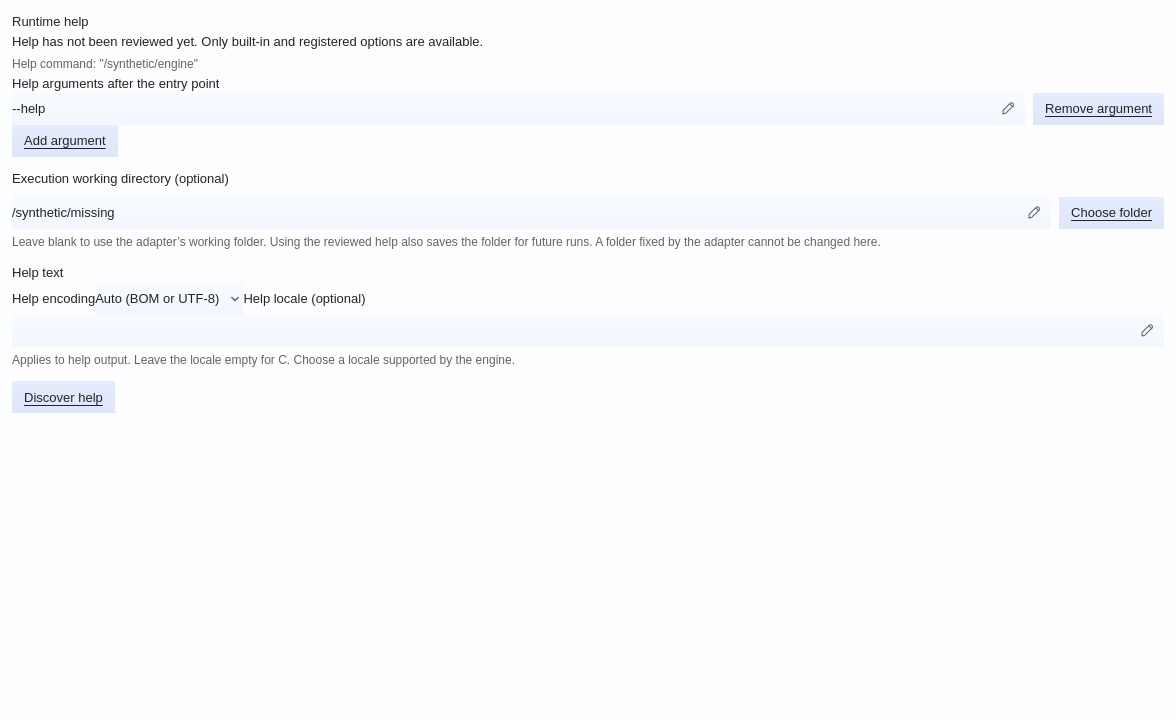
recovers a missing pinned directory through the common folder control without dropping saved options
Expected: the field labelled "Execution working directory (optional)" holds "/synthetic/missing", [12,197,1051,229]
Click the button "Discover help" at (63, 397), box [12,381,115,413]
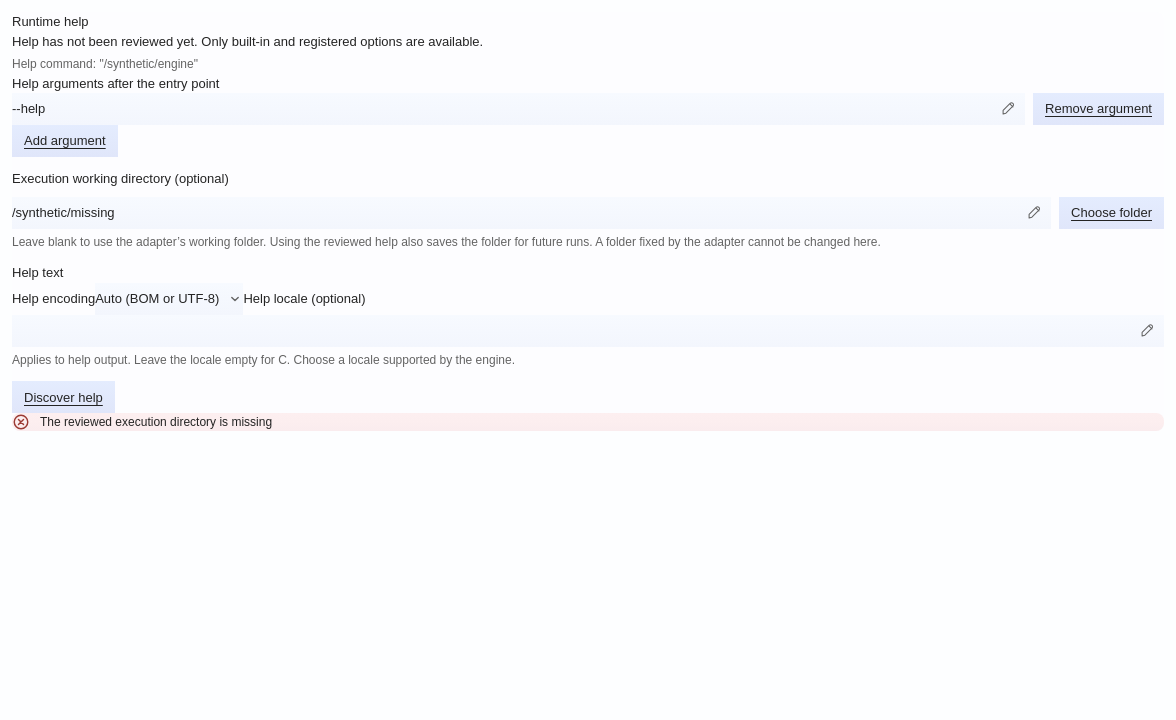
Now the text "The reviewed execution directory is missing" is shown, box [40,415,272,429]
Click the button "Choose folder" at (1112, 213), box [1059,197,1164,229]
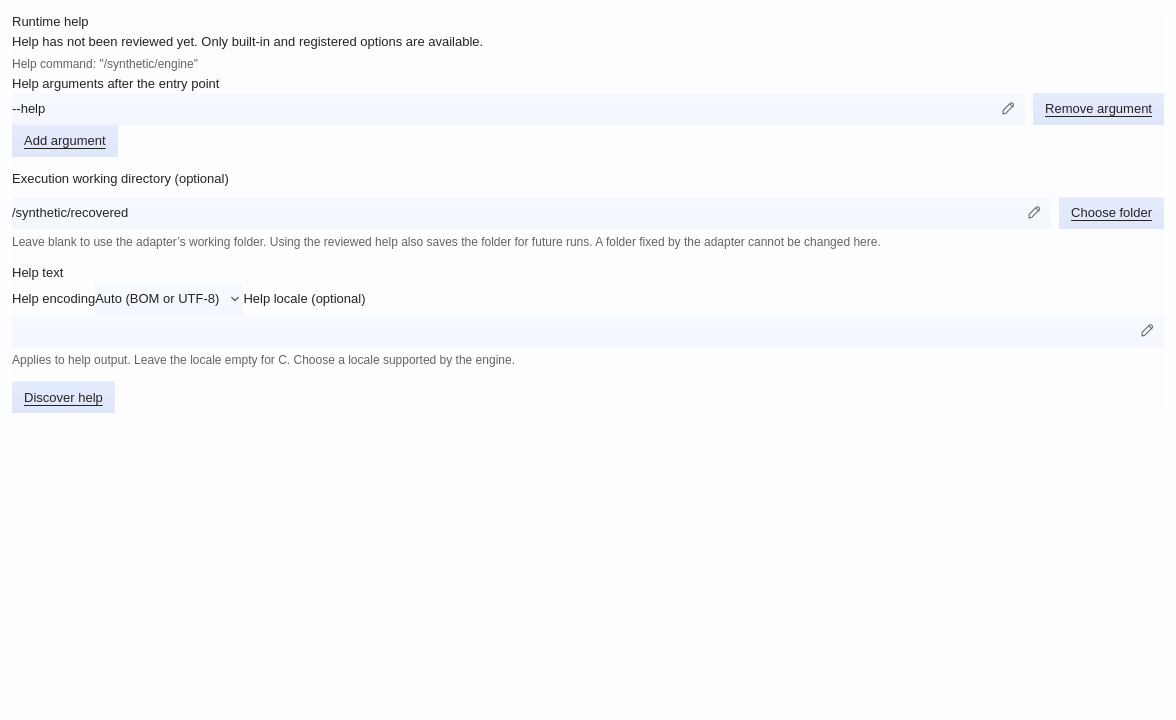
Now the field labelled "Execution working directory (optional)" holds "/synthetic/recovered", box [12,197,1051,229]
Click the button "Discover help" at (63, 397), box [12,381,115,413]
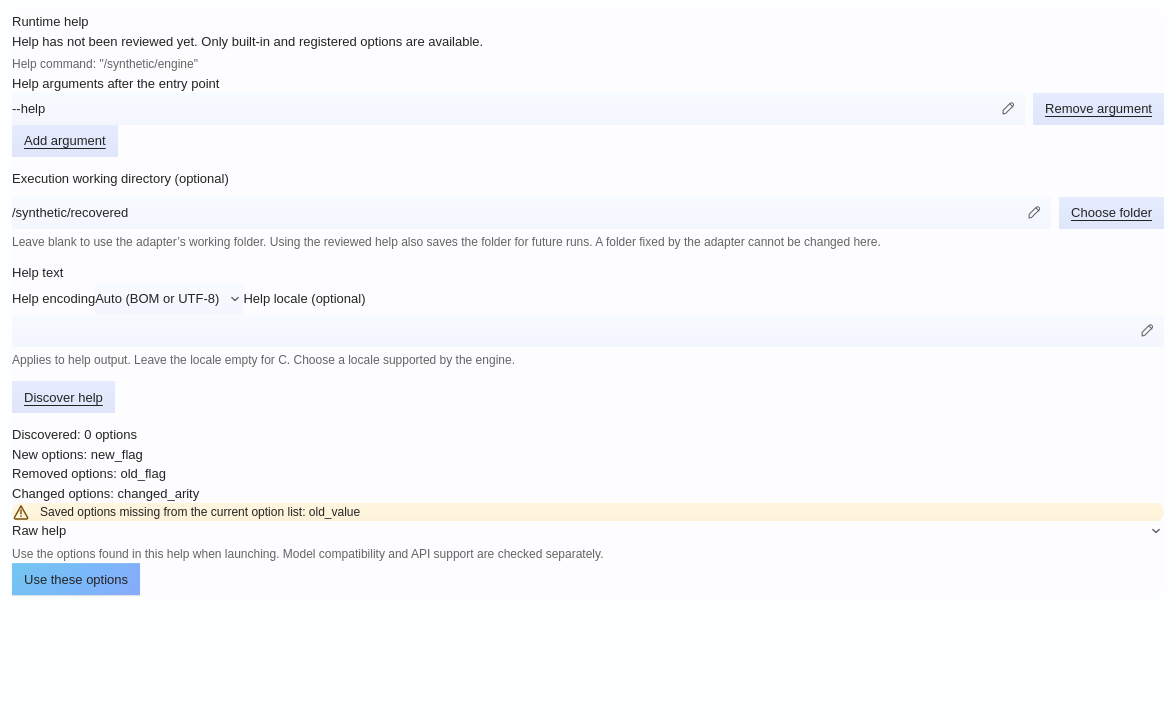
Now the button "Use these options" is shown, box [12,563,140,595]
